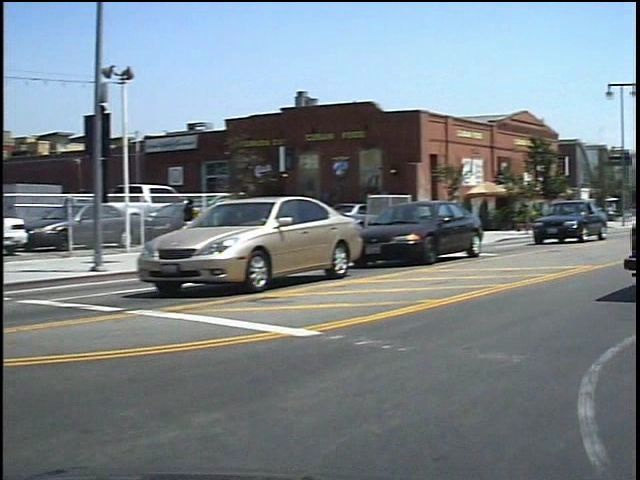person: (187, 187, 214, 252)
